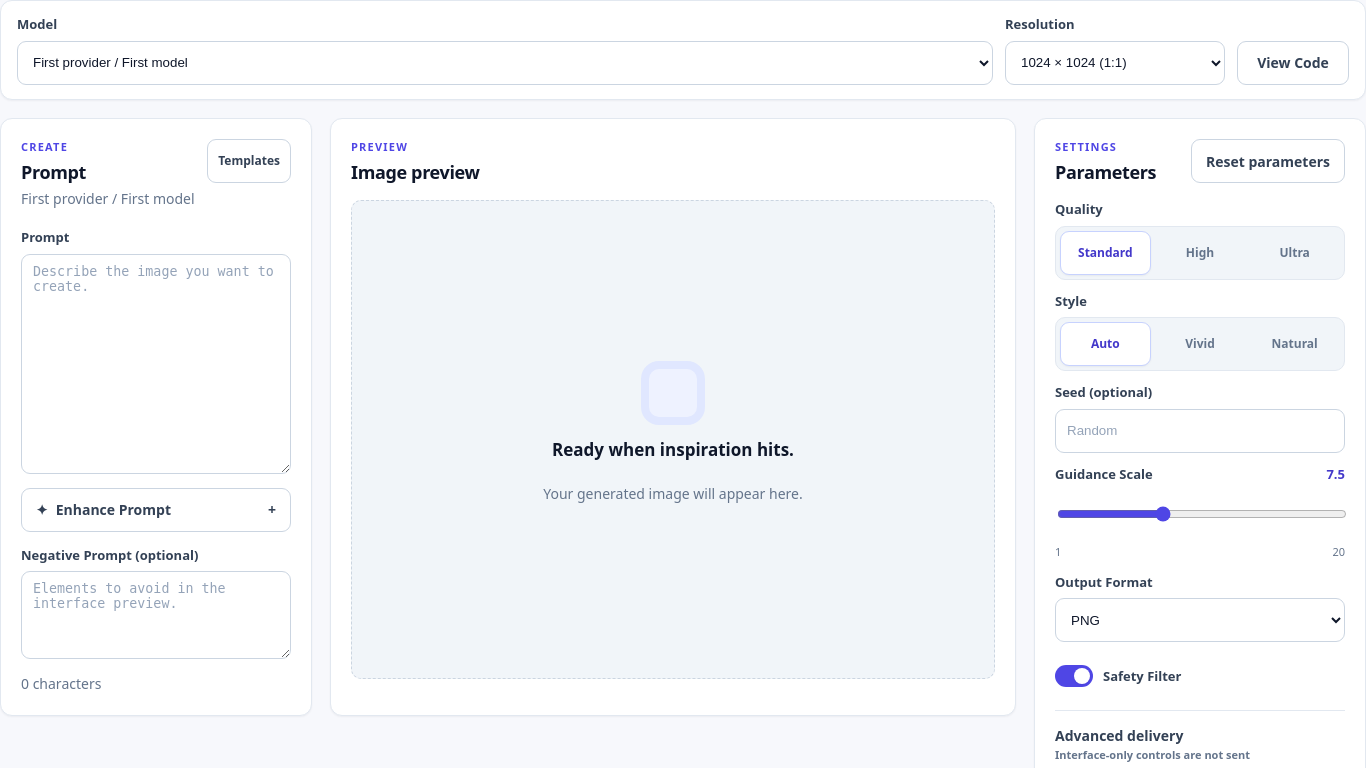
it: GenerateWorkspace › updates provider and shell labels atomically when the model changes
Step 1. Select "Second provider / Second model" in the dropdown labelled "Model" → (505, 62), box [17,40,993,84]
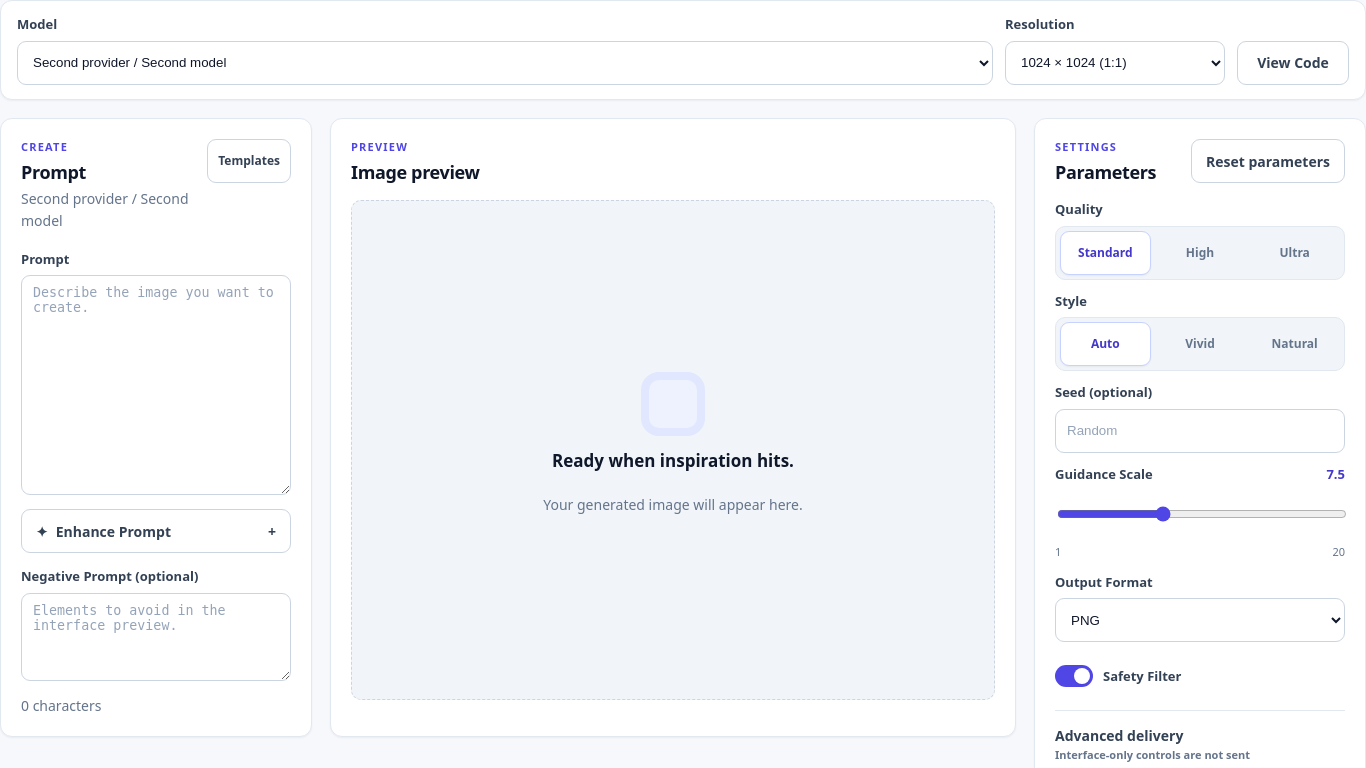
Now the text "Second provider / Second model" is shown, box [21,188,206,232]
